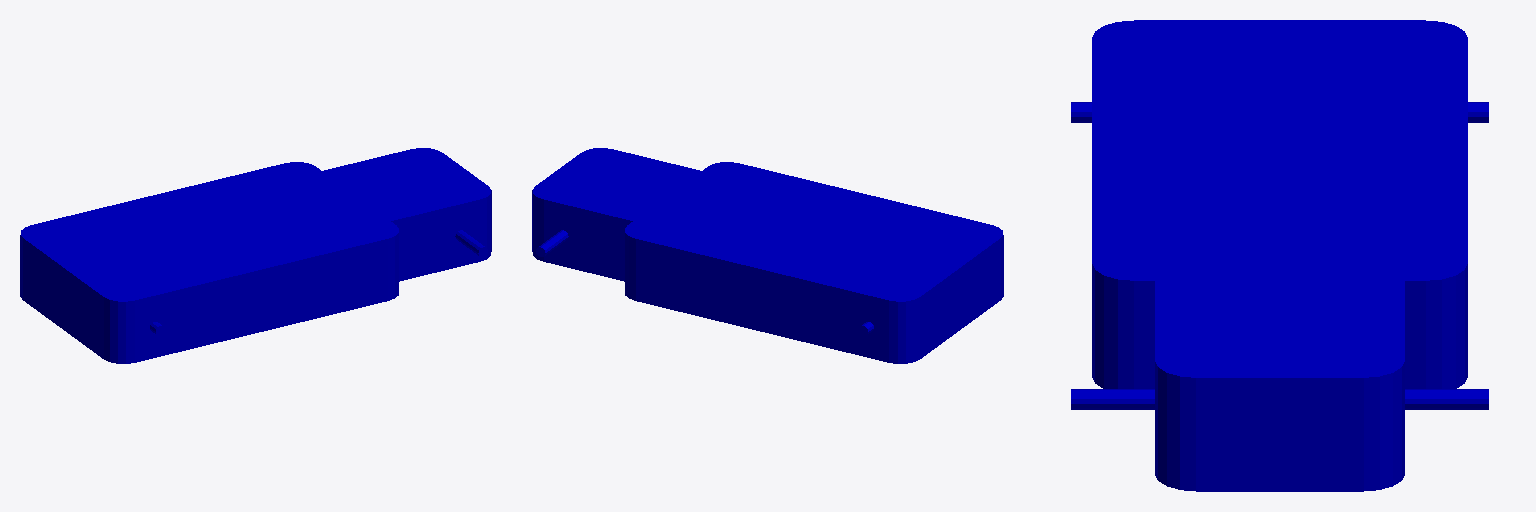
URDF robot description (racecar):
<?xml version="1.0" ?>
<!-- =================================================================================== -->
<!-- |    This document was autogenerated by xacro from racecar.xacro                  | -->
<!-- |    EDITING THIS FILE BY HAND IS NOT RECOMMENDED                                 | -->
<!-- =================================================================================== -->
<robot name="racecar" xmlns:xacro="http://www.ros.org/wiki/xacro">
  <!-- inertial parameter macros -->
  <!-- geometry macros -->
  <!-- transmission macros -->
  <!-- Add chassis and it's inertia link -->
  <link name="base_link">
   <inertial>
      <origin rpy="0 0 0" xyz="0 0 0"/>
      <mass value=".1"/>
      <inertia ixx="0.010609" ixy="0" ixz="0" iyy="0.050409" iyz="0" izz="0.05865"/>
    </inertial>
  </link>
  <link name="chassis">
   <inertial>
      <origin rpy="0 0 0" xyz="0 0 0"/>
      <mass value=".1"/>
      <inertia ixx="0.010609" ixy="0" ixz="0" iyy="0.050409" iyz="0" izz="0.05865"/>
    </inertial>
    <visual>
      <origin rpy="0 0 0" xyz="0 0 0"/>
      <geometry>
        <mesh filename="./racecar/meshes/chassis.obj"/>
      </geometry>
      <material name="blue"/>
    </visual>
  </link>
  <joint name="base_link_joint" type="fixed">
    <origin rpy="0 0 0" xyz="0 0 0.05"/>
    <parent link="base_link"/>
    <child link="chassis"/>
  </joint>
  <link name="chassis_inertia">
    <inertial>
      <origin rpy="0 0 0" xyz="0.1477 0 0"/>
      <mass value="4.0"/>
      <inertia ixx="0.010609" ixy="0" ixz="0" iyy="0.050409" iyz="0" izz="0.05865"/>
    </inertial>
  </link>
  <joint name="chassis_inertia_joint" type="fixed">
    <origin rpy="0 0 0" xyz="0 0 0"/>
    <parent link="chassis"/>
    <child link="chassis_inertia"/>
  </joint>
  <!-- Add the left rear wheel with its joints and tranmissions -->
  <link name="left_rear_wheel">
    <inertial>
      <origin rpy="0 0 0" xyz="0 0 -0.0225"/>
      <mass value="0.34055"/>
      <inertia ixx="0.00026046" ixy="0" ixz="0" iyy="0.00026046" iyz="0" izz="0.00041226"/>
    </inertial>
    <visual>
      <origin rpy="0 0 0" xyz="0 0 0"/>
      <geometry>
        <mesh filename="./racecar/meshes/left_rear_wheel.obj"/>
      </geometry>
      <material name="white"/>
    </visual>
    <collision>
      <origin rpy="0 0 0" xyz="0 0 -0.0225"/>
      <geometry>
        <!-- <cylinder length="0.045" radius="0.05"/> -->
        <sphere radius="0.05"/>
      </geometry>
    </collision>
  </link>
  <joint name="left_rear_wheel_joint" type="continuous">
    <origin rpy="1.5708 0 0" xyz="0 0.1 0"/>
    <parent link="chassis"/>
    <child link="left_rear_wheel"/>
    <axis xyz="0 0 -1"/>
    <limit effort="10" velocity="100"/>
  </joint>
  
  <!-- Add the right rear wheel with its joints and tranmissions -->
  <link name="right_rear_wheel">
    <inertial>
      <origin rpy="0 0 0" xyz="0 0 0.0225"/>
      <mass value="0.34055"/>
      <inertia ixx="0.00026046" ixy="0" ixz="0" iyy="0.00026046" iyz="0" izz="0.00041226"/>
    </inertial>
    <visual>
      <origin rpy="0 0 0" xyz="0 0 0"/>
      <geometry>
        <mesh filename="./racecar/meshes/right_rear_wheel.obj"/>
      </geometry>
      <material name="white"/>
    </visual>
    <collision>
      <origin rpy="0 0 0" xyz="0 0 0.0225"/>
      <geometry>
        <sphere radius="0.05"/>
        <!-- <cylinder length="0.045" radius="0.05"/> -->
      </geometry>
    </collision>
  </link>
  <joint name="right_rear_wheel_joint" type="continuous">
    <origin rpy="1.5708 0 0" xyz="0 -0.1 0"/>
    <parent link="chassis"/>
    <child link="right_rear_wheel"/>
    <axis xyz="0 0 -1"/>
    <limit effort="10" velocity="100"/>
  </joint>
 
  <!-- Add the left steering hinge with its joints and tranmissions -->
  <link name="left_steering_hinge">
    <inertial>
      <origin rpy="0 0 0" xyz="0 0 0"/>
      <mass value="0.100"/>
      <inertia ixx="4E-06" ixy="0" ixz="0" iyy="4E-06" iyz="0" izz="4E-06"/>
    </inertial>
    <visual>
      <origin rpy="0 0 0" xyz="0 0 0"/>
      <geometry>
        <mesh filename="./racecar/meshes/left_steering_hinge.STL"/>
      </geometry>
      <material name="grey"/>
    </visual>
  </link>
  <joint name="left_steering_hinge_joint" type="revolute">
    <origin rpy="0 1.5708 0" xyz="0.325 0.1 0"/>
    <parent link="chassis"/>
    <child link="left_steering_hinge"/>
    <axis xyz="-1 0 0"/>
    <limit effort="10" lower="-1.0" upper="1.0" velocity="100"/>
  </joint>
  <transmission name="left_steering_hinge_transmission" type="SimpleTransmission">
    <type>transmission_interface/SimpleTransmission</type>
    <joint name="left_steering_hinge_joint">
      <hardwareInterface>EffortJointInterface</hardwareInterface>
    </joint>
    <actuator name="left_steering_hinge_motor">
      <hardwareInterface>EffortJointInterface</hardwareInterface>
      <mechanicalReduction>1</mechanicalReduction>
    </actuator>
  </transmission>
  <!-- Add the right steering hinge with its joints and tranmissions -->
  <link name="right_steering_hinge">
    <inertial>
      <origin rpy="0 0 0" xyz="0 0 0"/>
      <mass value="0.100"/>
      <inertia ixx="4E-06" ixy="0" ixz="0" iyy="4E-06" iyz="0" izz="4E-06"/>
    </inertial>
    <visual>
      <origin rpy="0 0 0" xyz="0 0 0"/>
      <geometry>
        <mesh filename="./racecar/meshes/right_steering_hinge.STL"/>
      </geometry>
      <material name="grey"/>
    </visual>
  </link>
  <joint name="right_steering_hinge_joint" type="continuous">
    <origin rpy="0 1.5708 0" xyz="0.325 -0.1 0"/>
    <parent link="chassis"/>
    <child link="right_steering_hinge"/>
    <axis xyz="-1 0 0"/>
    <limit effort="10" lower="-1.0" upper="1.0" velocity="100"/>
  </joint>
  <transmission name="right_steering_hinge_transmission" type="SimpleTransmission">
    <type>transmission_interface/SimpleTransmission</type>
    <joint name="right_steering_hinge_joint">
      <hardwareInterface>EffortJointInterface</hardwareInterface>
    </joint>
    <actuator name="right_steering_hinge_motor">
      <hardwareInterface>EffortJointInterface</hardwareInterface>
      <mechanicalReduction>1</mechanicalReduction>
    </actuator>
  </transmission>
  <!-- Add the left front wheel with its joints and tranmissions -->
  <link name="left_front_wheel">
    <inertial>
      <origin rpy="0 0 0" xyz="0 0 -0.0225"/>
      <mass value="0.34055"/>
      <inertia ixx="0.00026046" ixy="0" ixz="0" iyy="0.00026046" iyz="0" izz="0.00041226"/>
    </inertial>
    <visual>
      <origin rpy="0 0 0" xyz="0 0 0"/>
      <geometry>
        <mesh filename="./racecar/meshes/left_front_wheel.obj"/>
      </geometry>
      <material name="white"/>
    </visual>
    <collision>
      <origin rpy="0 0 0" xyz="0 0 -0.0225"/>
      <geometry>
        <!-- <cylinder length="0.045" radius="0.05"/> -->
        <sphere radius="0.05"/>
      </geometry>
    </collision>
  </link>
  <joint name="left_front_wheel_joint" type="continuous">
    <origin rpy="1.5708 0 0" xyz="0 0 0"/>
    <parent link="left_steering_hinge"/>
    <child link="left_front_wheel"/>
    <axis xyz="0 0 -1"/>
    <limit effort="10" velocity="100"/>
  </joint>
  <transmission name="left_front_wheel_transmission" type="SimpleTransmission">
    <type>transmission_interface/SimpleTransmission</type>
    <joint name="left_front_wheel_joint">
      <hardwareInterface>EffortJointInterface</hardwareInterface>
    </joint>
    <actuator name="left_front_wheel_motor">
      <hardwareInterface>EffortJointInterface</hardwareInterface>
      <mechanicalReduction>1</mechanicalReduction>
    </actuator>
  </transmission>
  <!-- Add the left front wheel with its joints and tranmissions -->
  <link name="right_front_wheel">
    <inertial>
      <origin rpy="0 0 0" xyz="0 0 0.0225"/>
      <mass value="0.34055"/>
      <inertia ixx="0.00026046" ixy="0" ixz="0" iyy="0.00026046" iyz="0" izz="0.00041226"/>
    </inertial>
    <visual>
      <origin rpy="0 0 0" xyz="0 0 0"/>
      <geometry>
        <mesh filename="./racecar/meshes/right_front_wheel.obj"/>
      </geometry>
      <material name="white"/>
    </visual>
    <collision>
      <origin rpy="0 0 0" xyz="0 0 0.0225"/>
      <geometry>
        <!-- <cylinder length="0.045" radius="0.05"/> -->
        <sphere radius="0.05"/>
      </geometry>
    </collision>
  </link>
  <joint name="right_front_wheel_joint" type="continuous">
    <origin rpy="1.5708 0 0" xyz="0 0 0"/>
    <parent link="right_steering_hinge"/>
    <child link="right_front_wheel"/>
    <axis xyz="0 0 -1"/>
    <limit effort="10" velocity="100"/>
  </joint>
  <transmission name="right_front_wheel_transmission" type="SimpleTransmission">
    <type>transmission_interface/SimpleTransmission</type>
    <joint name="right_front_wheel_joint">
      <hardwareInterface>EffortJointInterface</hardwareInterface>
    </joint>
    <actuator name="right_front_wheel_motor">
      <hardwareInterface>EffortJointInterface</hardwareInterface>
      <mechanicalReduction>1</mechanicalReduction>
    </actuator>
  </transmission>
  <!-- Add Hokuyo laser scanner -->
  <link name="laser">
    <inertial>
      <origin rpy="0 0 0" xyz="0 0 0"/>
      <mass value="0.130"/>
      <inertia ixx="4E-06" ixy="0" ixz="0" iyy="4E-06" iyz="0" izz="4E-06"/>
    </inertial>
    <collision>
      <origin rpy="0 0 0" xyz="0 0 0"/>
      <geometry>
        <box size="0.1 0.1 0.1"/>
      </geometry>
    </collision>
    <visual>
      <origin rpy="0 0 0" xyz="0 0 0"/>
      <geometry>
        <mesh filename="./racecar/meshes/hokuyo.obj"/>
        <material name="grey"/>
      </geometry>
    </visual>
  </link>
  <joint name="hokuyo_joint" type="fixed">
    <origin rpy="0 0 0" xyz="0.265 0.0 0.075"/>
    <parent link="chassis"/>
    <child link="laser"/>
    <axis xyz="0 0 1"/>
  </joint>
  <!-- zed camera -->
  <link name="zed_camera_link">
    <inertial>
      <mass value="1e-5"/>
      <origin rpy="0 0 0" xyz="0 0 0"/>
      <inertia ixx="1e-6" ixy="0" ixz="0" iyy="1e-6" iyz="0" izz="1e-6"/>
    </inertial>
    <collision>
      <origin rpy="0 0 0" xyz="0 0 0"/>
      <geometry>
        <box size="0.033 0.175 0.030"/>
      </geometry>
    </collision>
    <visual>
      <origin rpy="0 0 0" xyz="0 0 0"/>
      <geometry>
        <mesh filename="cube.obj" scale="0.03 0.35 0.06"/>
        <!-- <box size="0.033 0.175 0.030"/> -->
      </geometry>
      <material name="red"/>
    </visual>
  </link>
  <joint name="zed_camera_joint" type="fixed">
    <origin rpy="0 0 0" xyz="0.390 0 0.04"/>
    <parent link="chassis"/>
    <child link="zed_camera_link"/>
    <axis xyz="0 0 1"/>
    <!-- <limit lower="0.0" upper="0.0" effort="0.0" velocity="0.0" /> -->
  </joint>
  <!-- zed camera lenses -->
  <!-- It seems these have to have a non-zero mass to have a camera attached? -->
  <link name="camera_link">
    <!-- this needs to match the name in zed_wrapper/zed_tf.launch -->
    <inertial>
      <mass value="1e-5"/>
      <origin rpy="0 0 0" xyz="0 0 0"/>
      <inertia ixx="1e-6" ixy="0" ixz="0" iyy="1e-6" iyz="0" izz="1e-6"/>
    </inertial>
  </link>
  <link name="zed_camera_right_link">
    <inertial>
      <mass value="1e-5"/>
      <origin rpy="0 0 0" xyz="0 0 0"/>
      <inertia ixx="1e-6" ixy="0" ixz="0" iyy="1e-6" iyz="0" izz="1e-6"/>
    </inertial>
  </link>
  <joint name="zed_camera_left_joint" type="fixed">
    <origin rpy="0 0 0" xyz="0 0.06 0"/>
    <parent link="zed_camera_link"/>
    <child link="camera_link"/>
    <axis xyz="0 0 1"/>
  </joint>
  <joint name="zed_camera_right_joint" type="fixed">
    <origin rpy="0 0 0" xyz="0 -0.06 0"/>
    <parent link="zed_camera_link"/>
    <child link="zed_camera_right_link"/>
    <axis xyz="0 0 1"/>
  </joint>
  <!-- Add the remaining xacros -->
  <!-- Gazebo references -->
  
  <material name="white">
    <color rgba="1. 1. 1. 1.0"/>
  </material>
  <material name="black">
    <color rgba="0. 0. 0. 1.0"/>
  </material>
  <material name="blue">
    <color rgba="0.0 0.0 0.8 1.0"/>
  </material>
  <material name="green">
    <color rgba="0.0 0.8 0.0 1.0"/>
  </material>
  <material name="grey">
    <color rgba="0.2 0.2 0.2 1.0"/>
  </material>
  <material name="orange">
    <color rgba="1.0 0.423529411765 0.0392156862745 1.0"/>
  </material>
  <material name="brown">
    <color rgba="0.870588235294 0.811764705882 0.764705882353 1.0"/>
  </material>
  <material name="red">
    <color rgba="0.8 0.0 0.0 1.0"/>
  </material>
</robot>

--- Render facts (derived) ---
Views: 3 orthographic renders of the robot side by side, from view 1: azimuth 30°, elevation 25°; view 2: azimuth 150°, elevation 25°; view 3: azimuth 270°, elevation 25°.
Model racecar with 13 links and 12 joints (1 revolute, 5 continuous, 6 fixed), rooted at base_link, posed all joints at 0.
Links seen in each view (by area): view 1: chassis; view 2: chassis; view 3: chassis.
Boxes of the visible links, x1,y1,x2,y2 form: chassis: (20, 148, 491, 363); chassis: (532, 148, 1003, 363); chassis: (1071, 20, 1488, 491).
Size in the robot's own frame: 0.405 by 0.2 by 0.06 metres.
1 mesh visuals loaded from 9 distinct referenced files (1 OBJ); not drawn: 8 (reference not matched to a file when rendering).